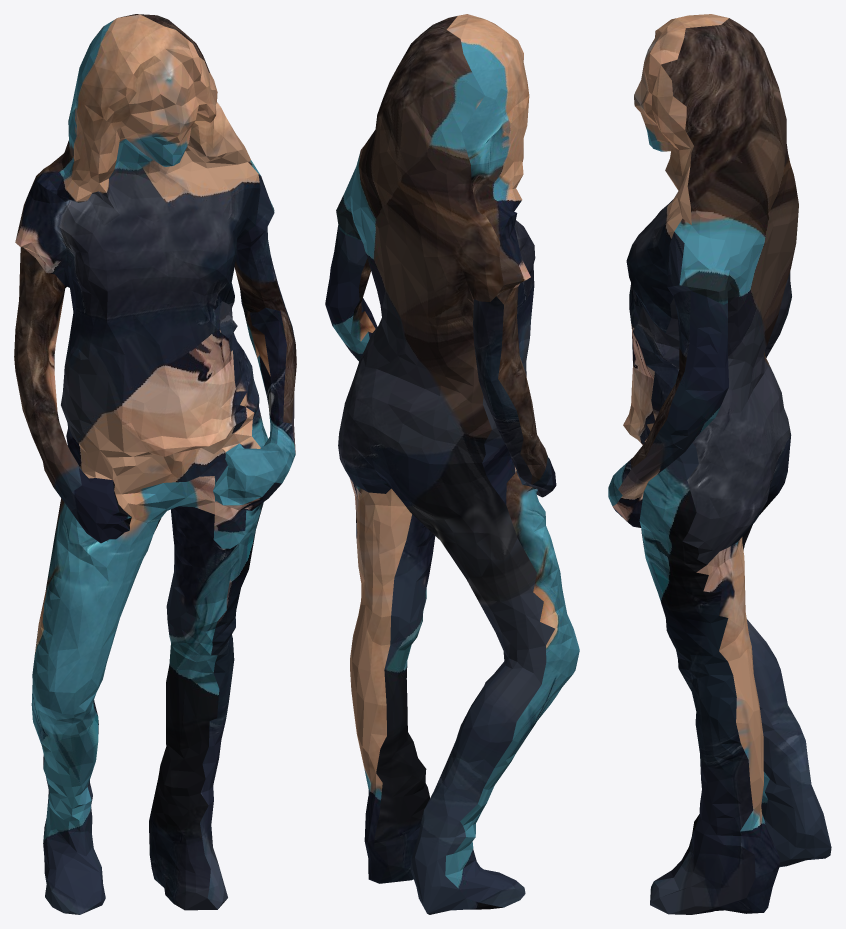
File: girl_7.glb
The picture shows the model from 3 angles, left to right: view 1: azimuth 30°, elevation 25°; view 2: azimuth 150°, elevation 25°; view 3: azimuth 270°, elevation 25°; orthographic projection. The views are drawn at different scales.
Visible parts, largest first — view 1: girl_7; view 2: girl_7; view 3: girl_7.
Part boxes in pixels (x1,y1,x2,y2): girl_7: [14, 14, 296, 914]; girl_7: [325, 14, 579, 914]; girl_7: [608, 14, 831, 914].
Size of the model in its own units: 0.4868 by 1.66 by 0.3888.
1 material, 1 textured.
